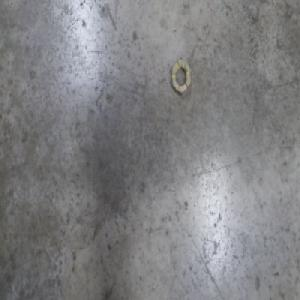Nut: (170, 55, 191, 95)
